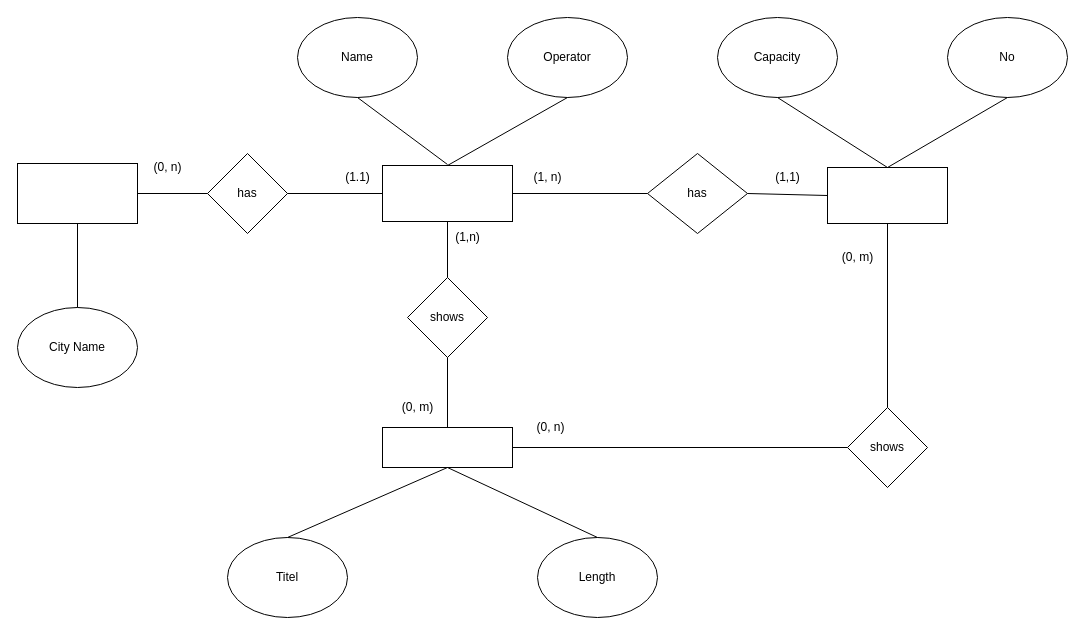
The diagram is 1085 pixels wide and 635 high, and some of its shapes have lost their labels. The box of each missing label's shape, as (x1, y1, x2, y2) in pixels:
Cinema: (382, 164, 512, 222)
Cinema Hall: (826, 166, 948, 224)
City: (16, 162, 138, 224)
Film: (382, 426, 512, 468)
